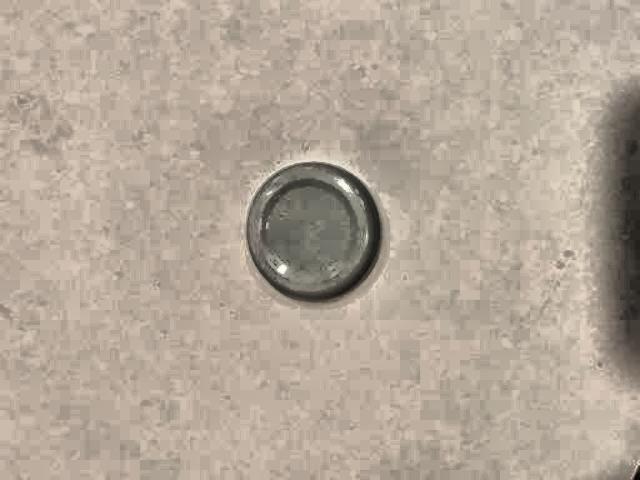Almennt: (238, 151, 409, 319)
